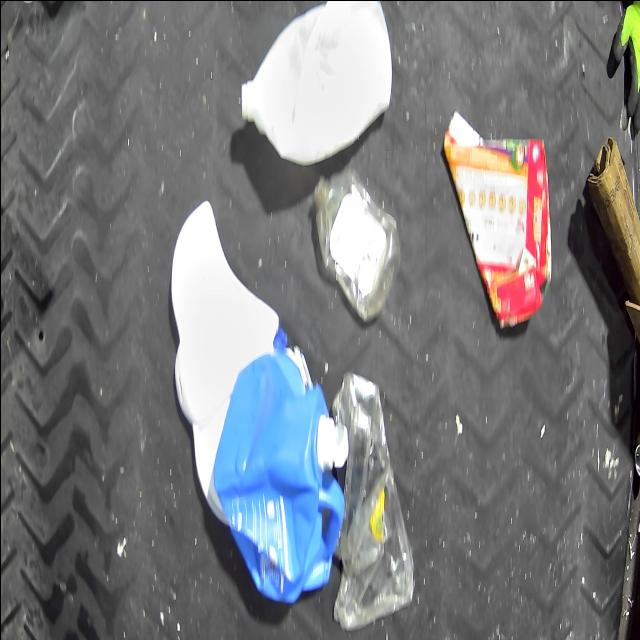can: (632, 378, 640, 484)
milk_jug: (170, 200, 288, 420), (237, 0, 393, 165)
non_white_jug: (200, 341, 344, 600)
